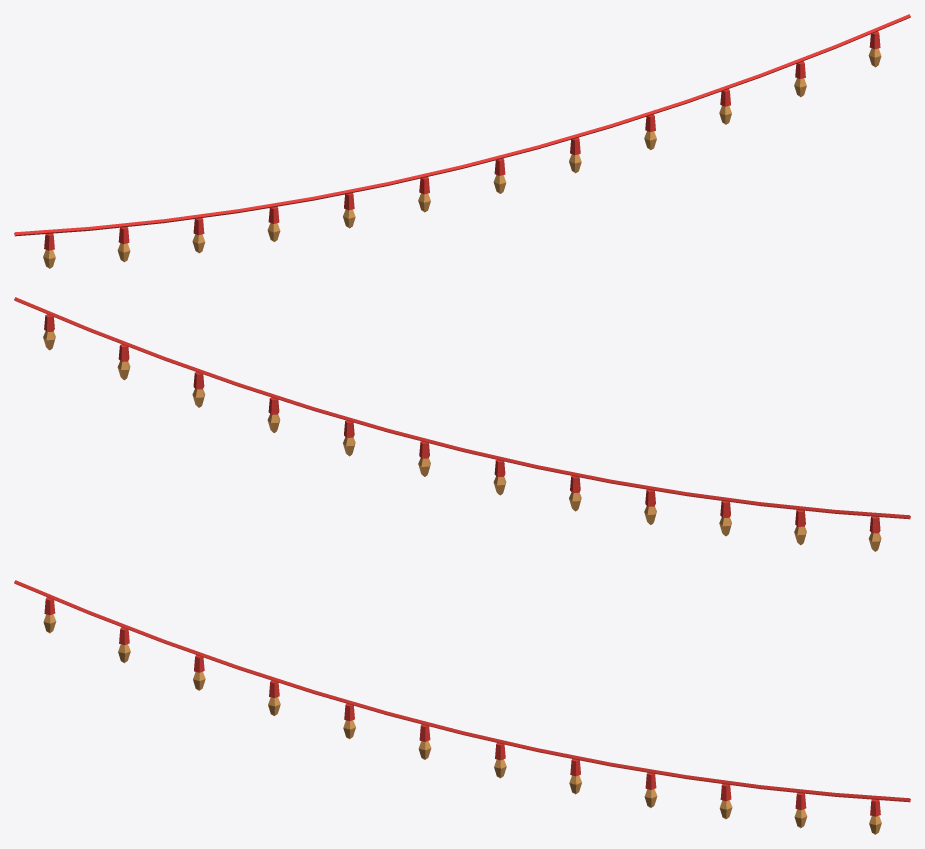
File: SM_Light_String_Color_Big_3m_Christmas.fbx
3 views of the same model, one above another, from view 1: azimuth 30°, elevation 25°; view 2: azimuth 150°, elevation 25°; view 3: azimuth 330°, elevation 25° (orthographic).
Visible parts, largest first — view 1: light-string-color-big-3m-christmas; view 2: light-string-color-big-3m-christmas; view 3: light-string-color-big-3m-christmas.
Boxes of the visible parts, x1,y1,x2,y2 form: light-string-color-big-3m-christmas: (14,14,910,268); light-string-color-big-3m-christmas: (14,297,910,551); light-string-color-big-3m-christmas: (14,580,910,834).
Size of the model in its own units: 3 by 0.2571 by 0.0357.
